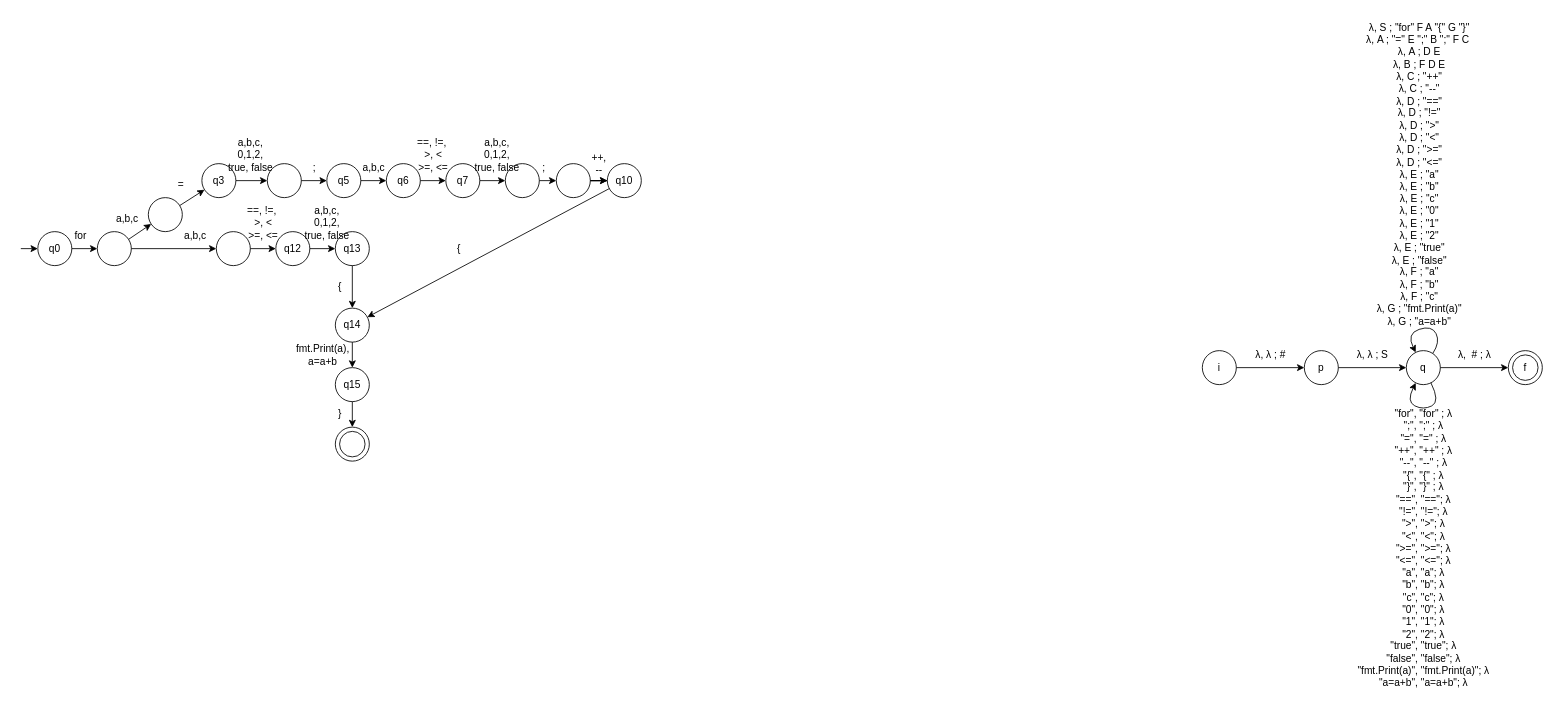
Some shapes in this 1557 by 722 pixel diagram are drawn without their labels. The shapes that lost their labels are listed below. From the top down, each one's centre as x and y in pixels, then its label:
At [283,180]: "q4".
At [521,180]: "q8".
At [572,180]: "q9".
At [164,214]: "q2".
At [113,248]: "q1".
At [232,248]: "q11".
At [352,444]: "q16".
